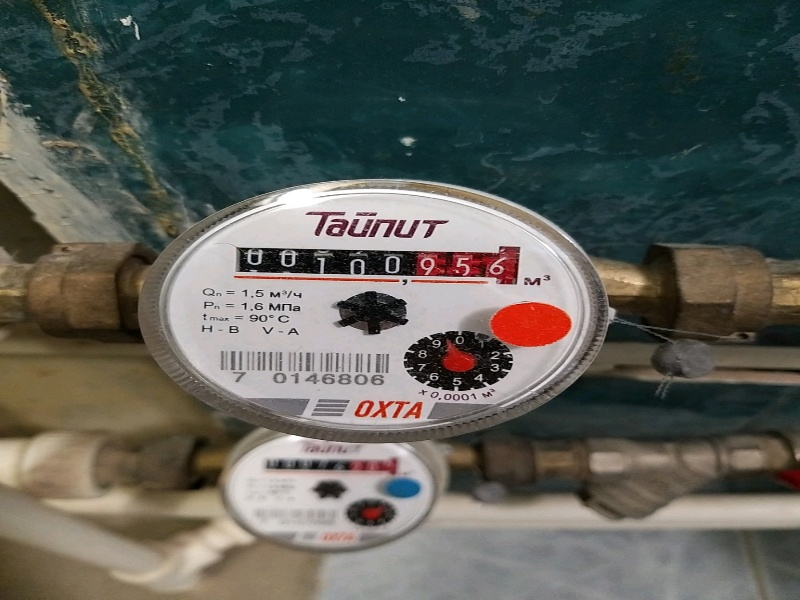dial: (234, 234, 519, 285)
